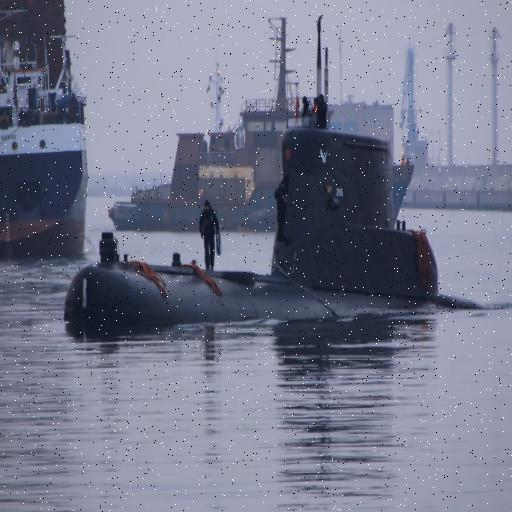submarine: (70, 7, 491, 339)
